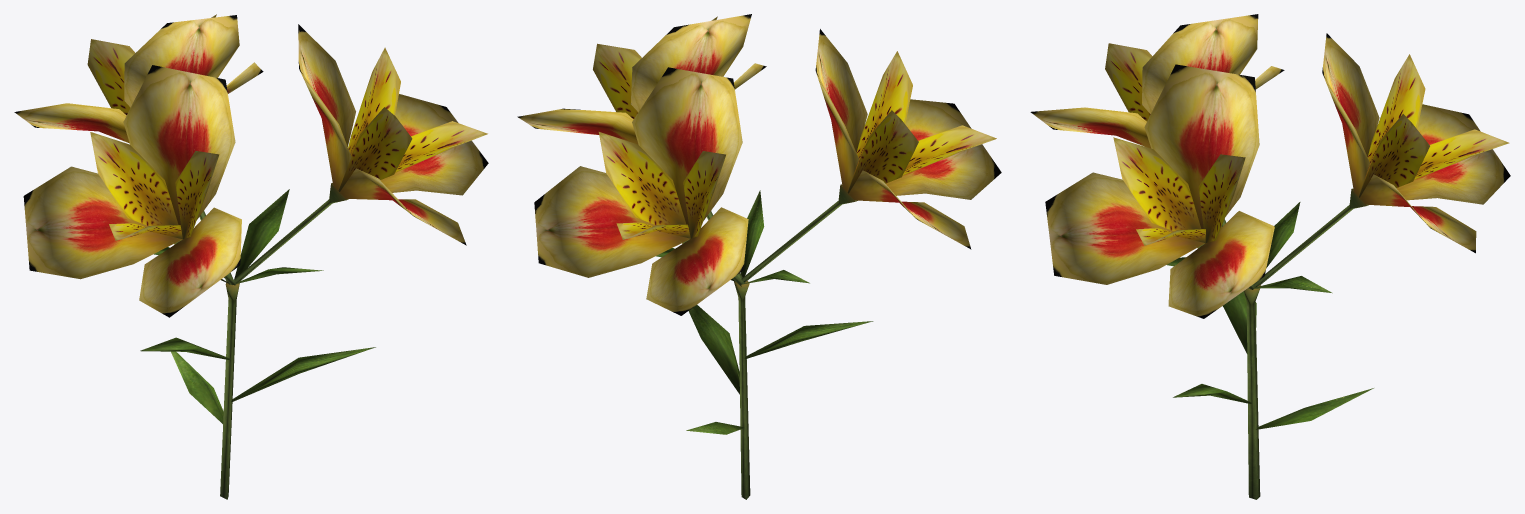
Rendered from Alstroemeria_m.FBX.
3 views of the same model, side by side, from view 1: azimuth 30°, elevation 25°; view 2: azimuth 150°, elevation 25°; view 3: azimuth 270°, elevation 25° (orthographic).
Visible parts, largest first — view 1: Object001; view 2: Object001; view 3: Object001.
Boxes of the visible parts, x1,y1,x2,y2 form: Object001: (14,14,488,499); Object001: (517,14,1001,499); Object001: (1030,14,1510,499).
Size of the model in its own units: 55.22 by 53.57 by 51.14.
